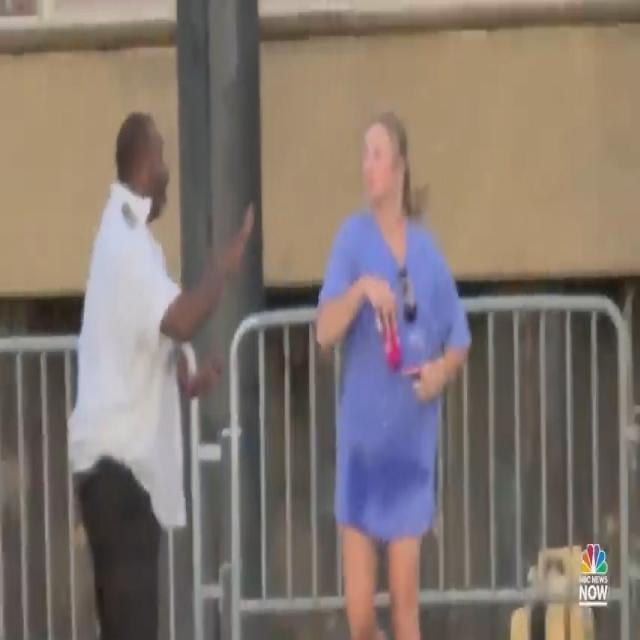fight: (51, 6, 483, 640)
